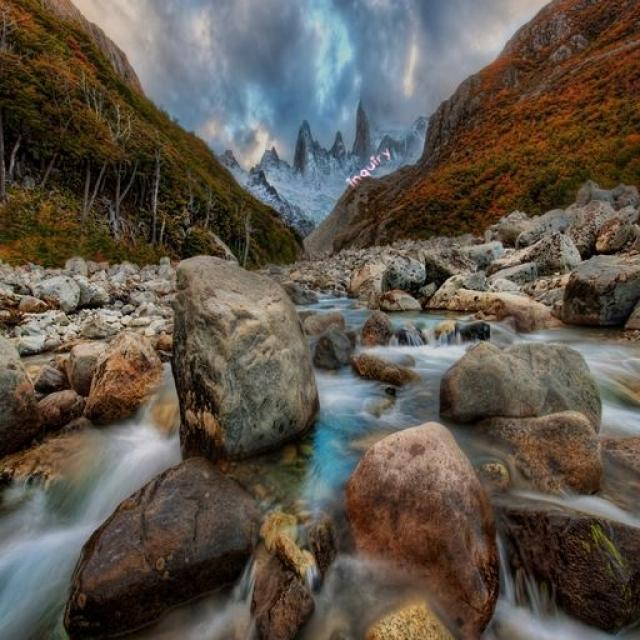watermark: (348, 140, 391, 190)
